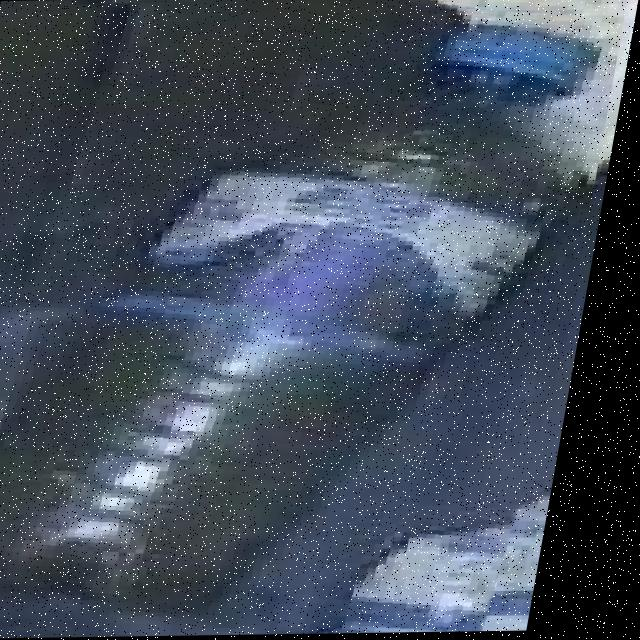litter: (0, 0, 628, 640), (360, 3, 571, 92)
